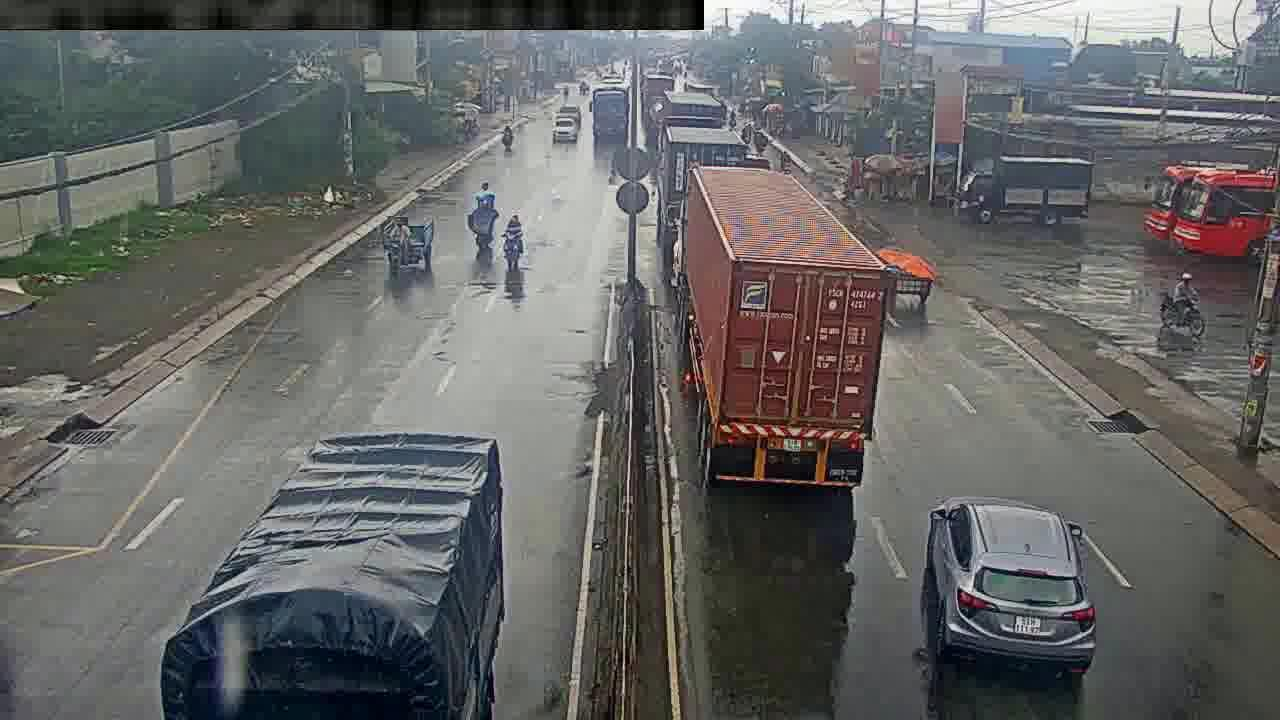8: (158, 420, 501, 720), (673, 165, 889, 483), (659, 115, 751, 226), (593, 83, 635, 145)
container: (935, 478, 1091, 679)
motorbike: (1159, 269, 1203, 331), (502, 213, 527, 272), (473, 202, 495, 255), (500, 115, 515, 152), (477, 180, 493, 203)
